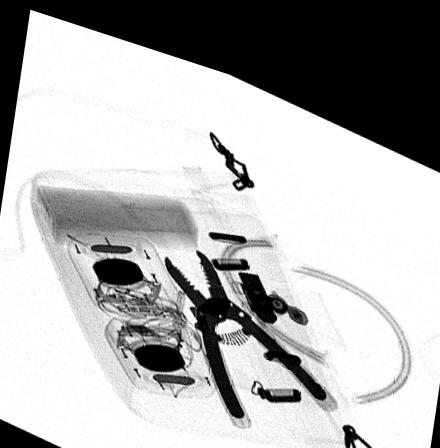Pliers: (162, 234, 328, 403)
